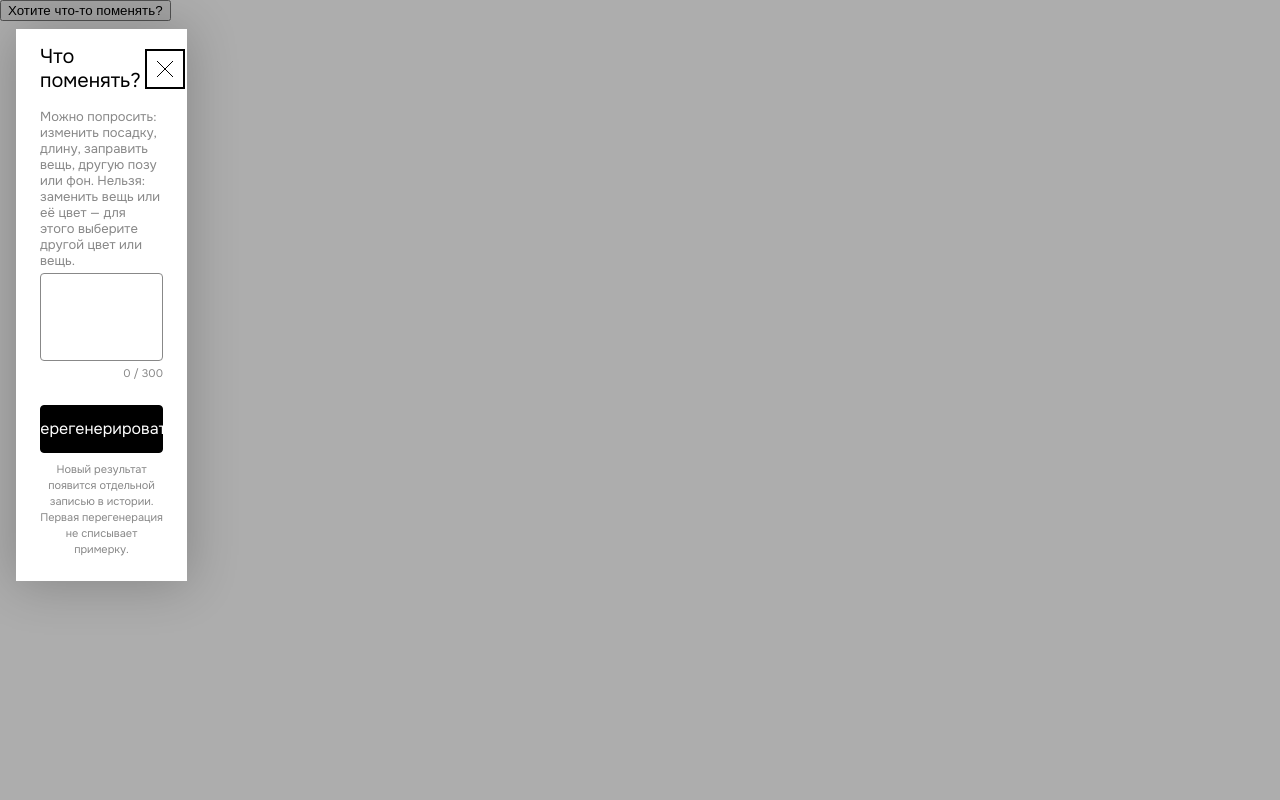
Scenario: RegeneratePopover › counts the comment and stops at the limit
Step 1. Type "Светлее" into the text box named "Что поменять" → (102, 317), box top-left (40, 273), bottom-right (163, 361)
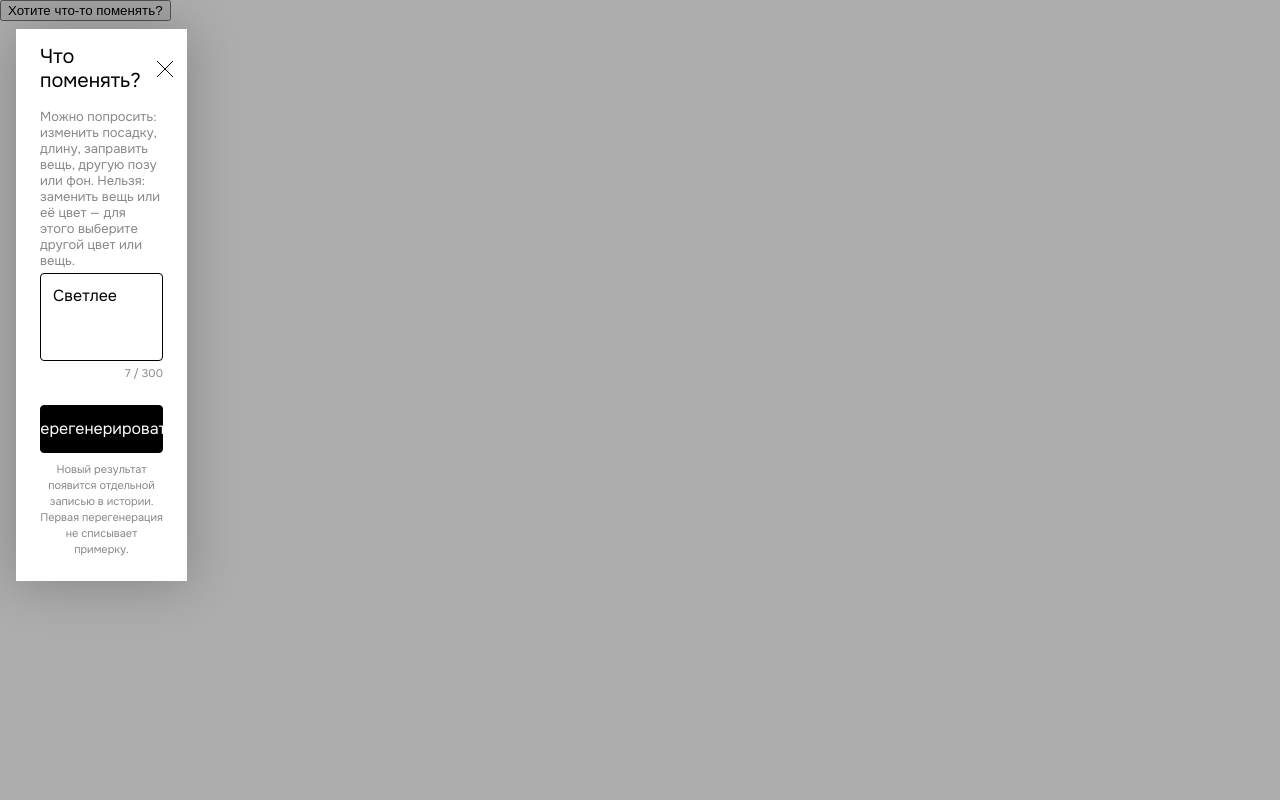
expect the text "7 / 300" is shown: met, box top-left (125, 366), bottom-right (163, 380)
